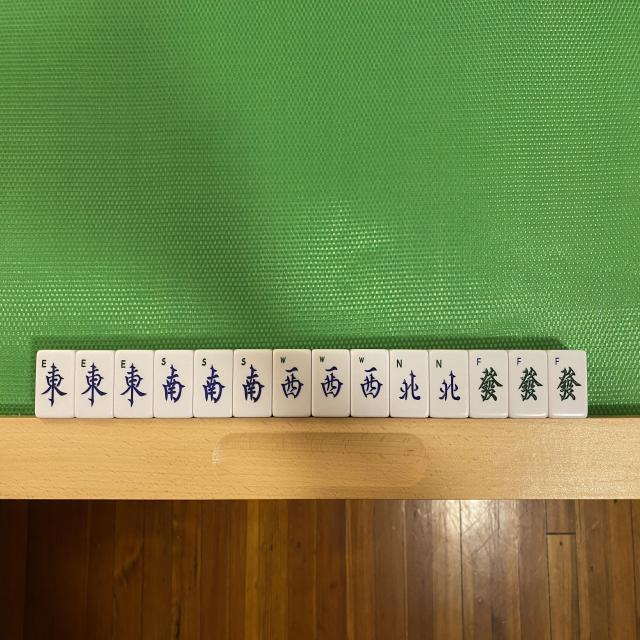hdg: (470, 350, 508, 418), (510, 351, 547, 416), (550, 351, 586, 416)
hwe: (75, 351, 114, 417), (115, 351, 153, 417), (36, 351, 74, 417)
hwn: (390, 351, 428, 416), (431, 351, 468, 417)
hws: (232, 350, 271, 418), (194, 351, 232, 416), (154, 352, 192, 416)
hww: (312, 349, 350, 416), (272, 350, 310, 416), (352, 350, 388, 416)
